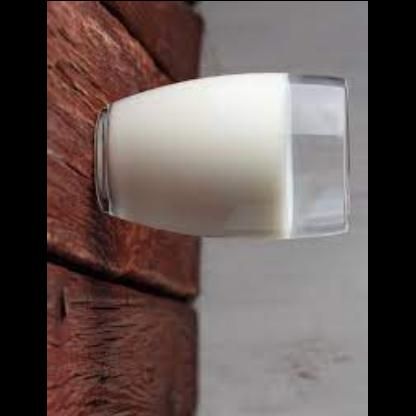milk: (102, 68, 298, 244)
